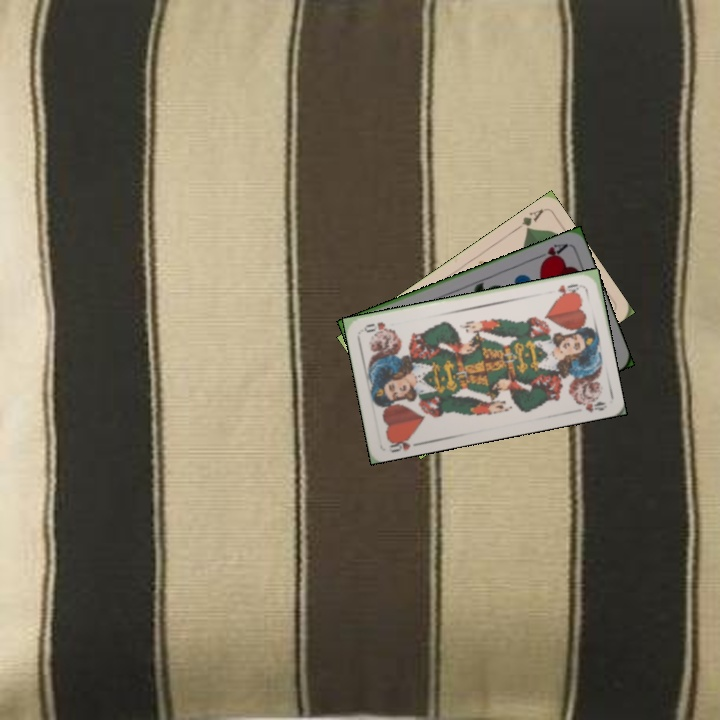GA: (510, 205, 546, 235)
HA: (531, 239, 570, 266)
HO: (383, 431, 424, 455), (553, 280, 581, 299)
